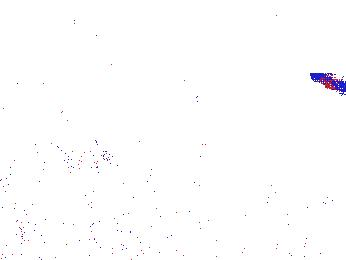X-ray fish: (27, 143, 76, 174), (68, 140, 118, 170)
redtail glassfish: (261, 194, 334, 218), (310, 69, 346, 95)
